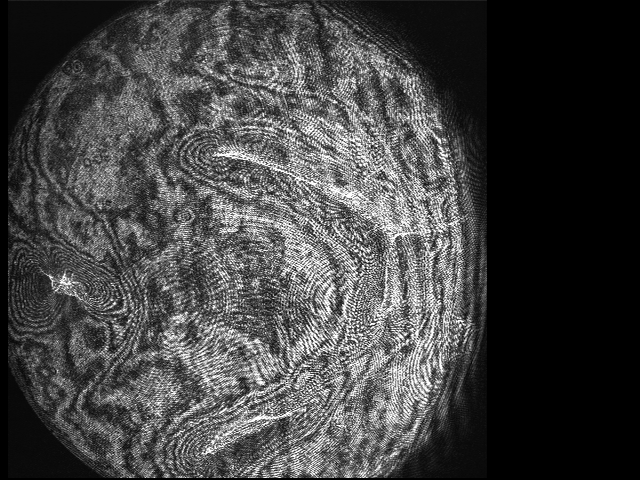plume: (8, 242, 127, 328)
